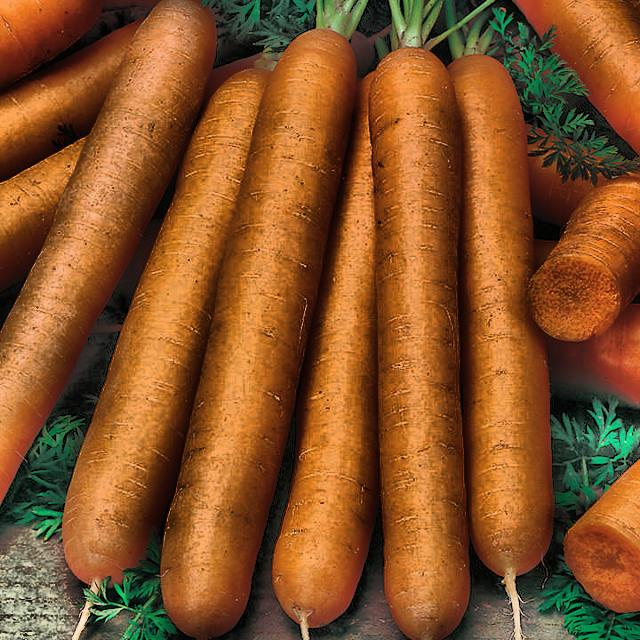carrot: (16, 12, 608, 628)
